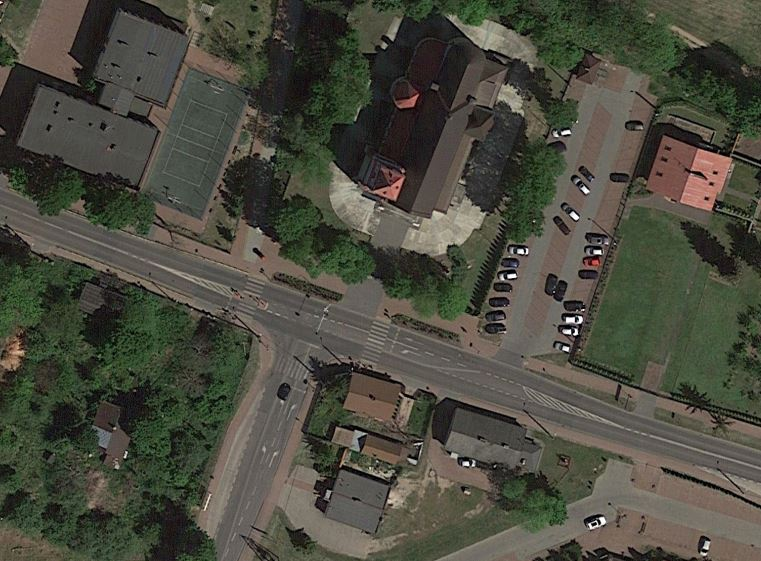block of flats: (7, 5, 194, 196)
church: (343, 29, 513, 222)
family house: (640, 129, 737, 215), (439, 405, 551, 478), (317, 465, 390, 540), (336, 373, 408, 422)
